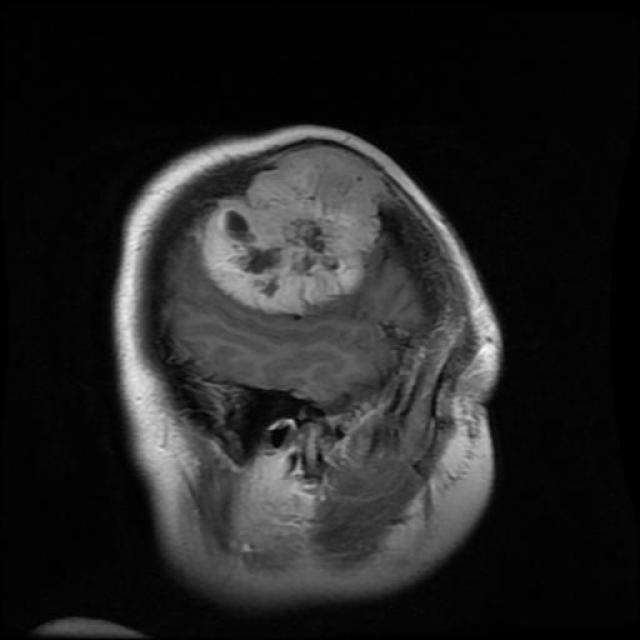meningioma: (204, 158, 382, 315)
